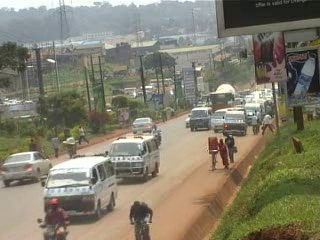Car: (1, 149, 53, 187), (129, 113, 158, 134), (184, 111, 189, 130)
Motorcycle: (32, 200, 72, 239), (60, 134, 80, 157), (149, 123, 163, 147)
